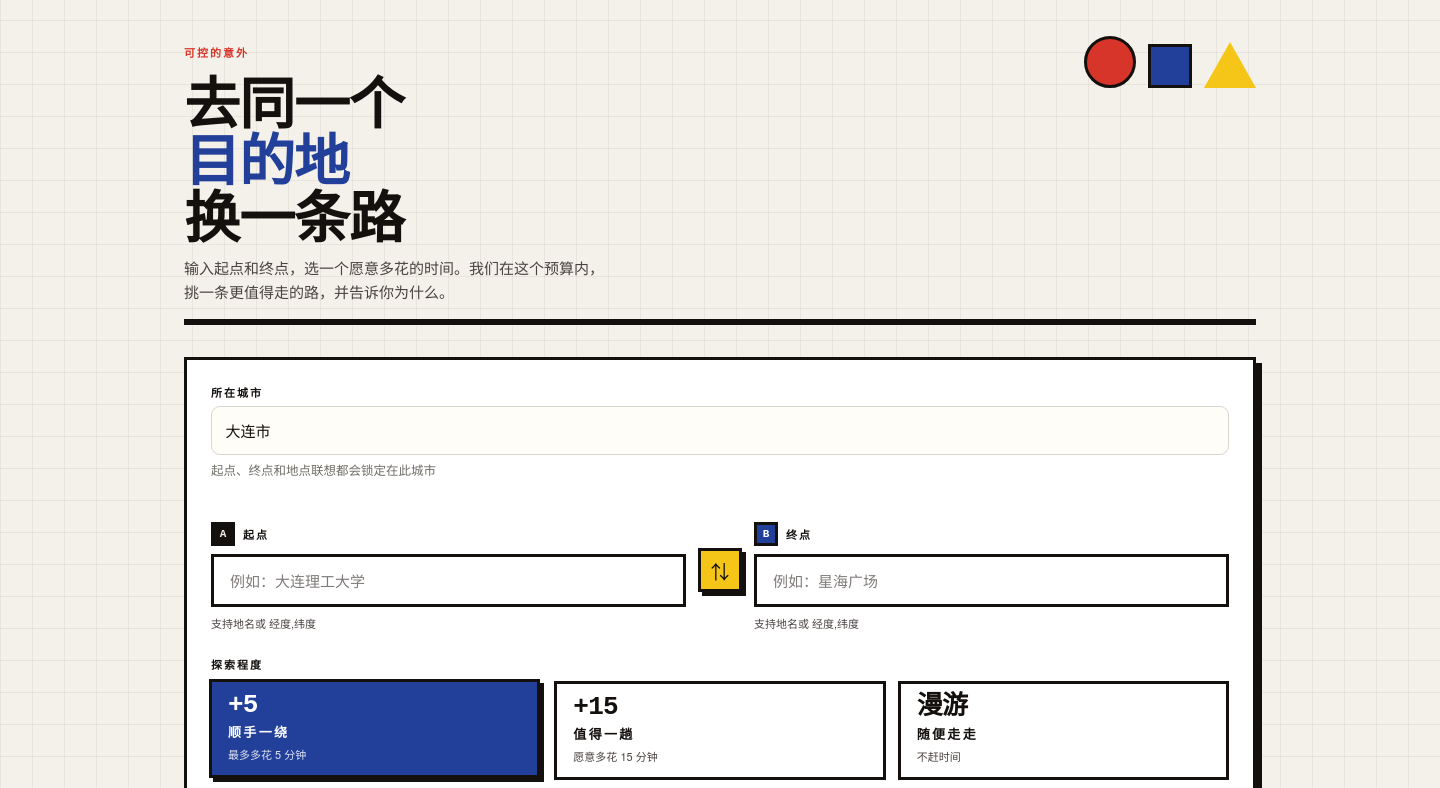
Scenario: HomeView › warns when the backend returns no route
The width and height of the screenshot is (1440, 788).
Type "起点" into the dropdown labelled "A 起点" at [448, 581], box x1=211 y1=554 x2=686 y2=607
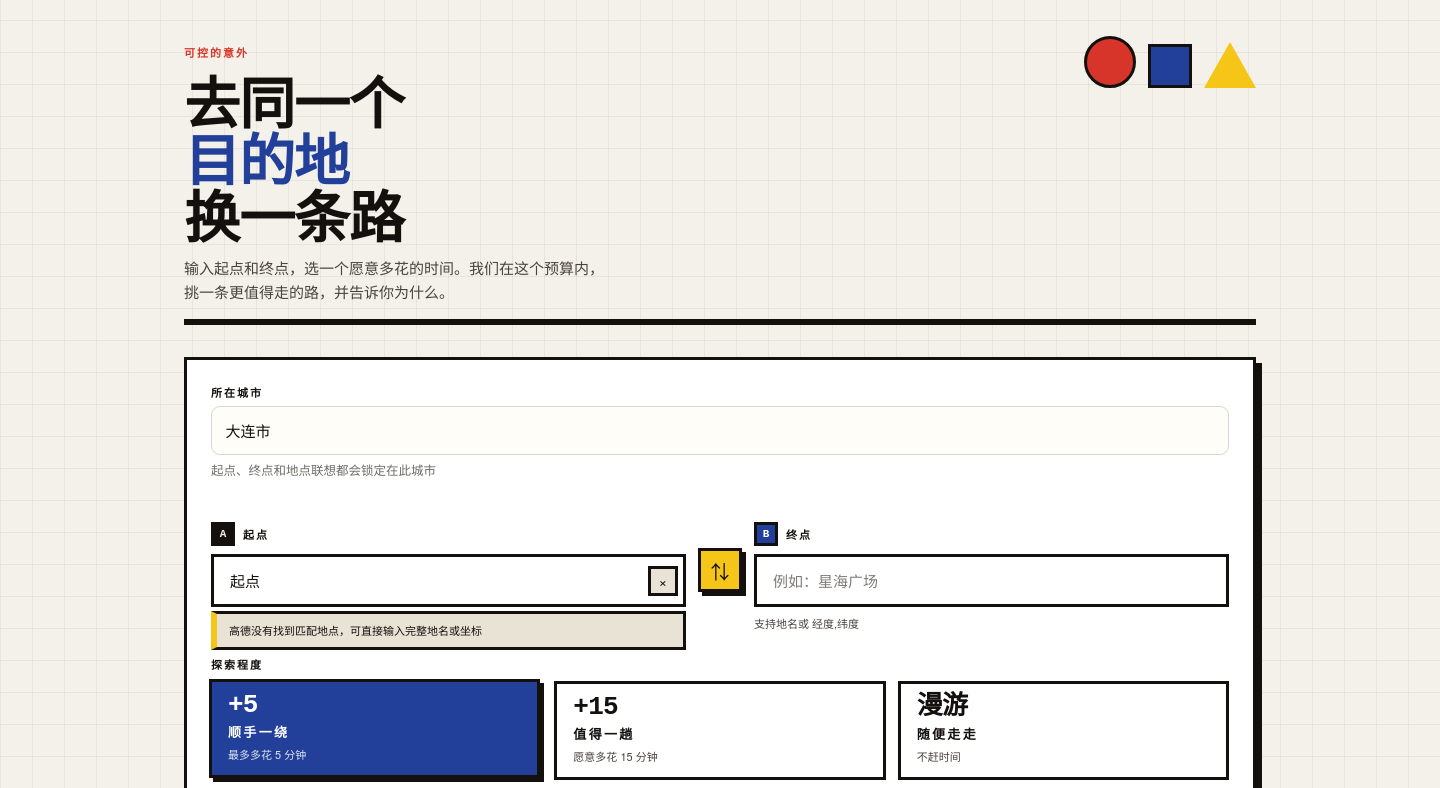
Type "终点" into the dropdown labelled "B 终点" at [992, 581], box x1=754 y1=554 x2=1229 y2=607
(page scrolled)
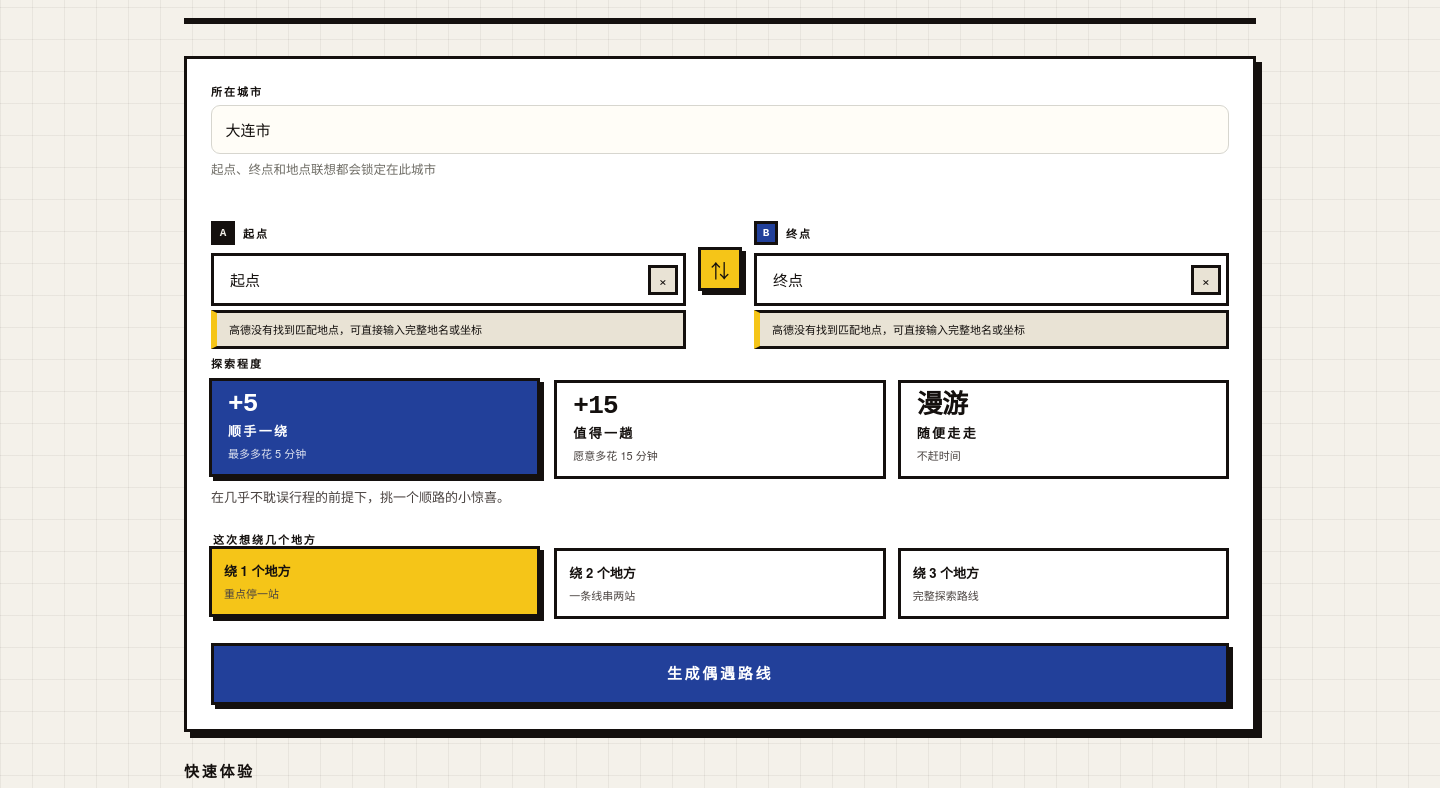
Submit the form
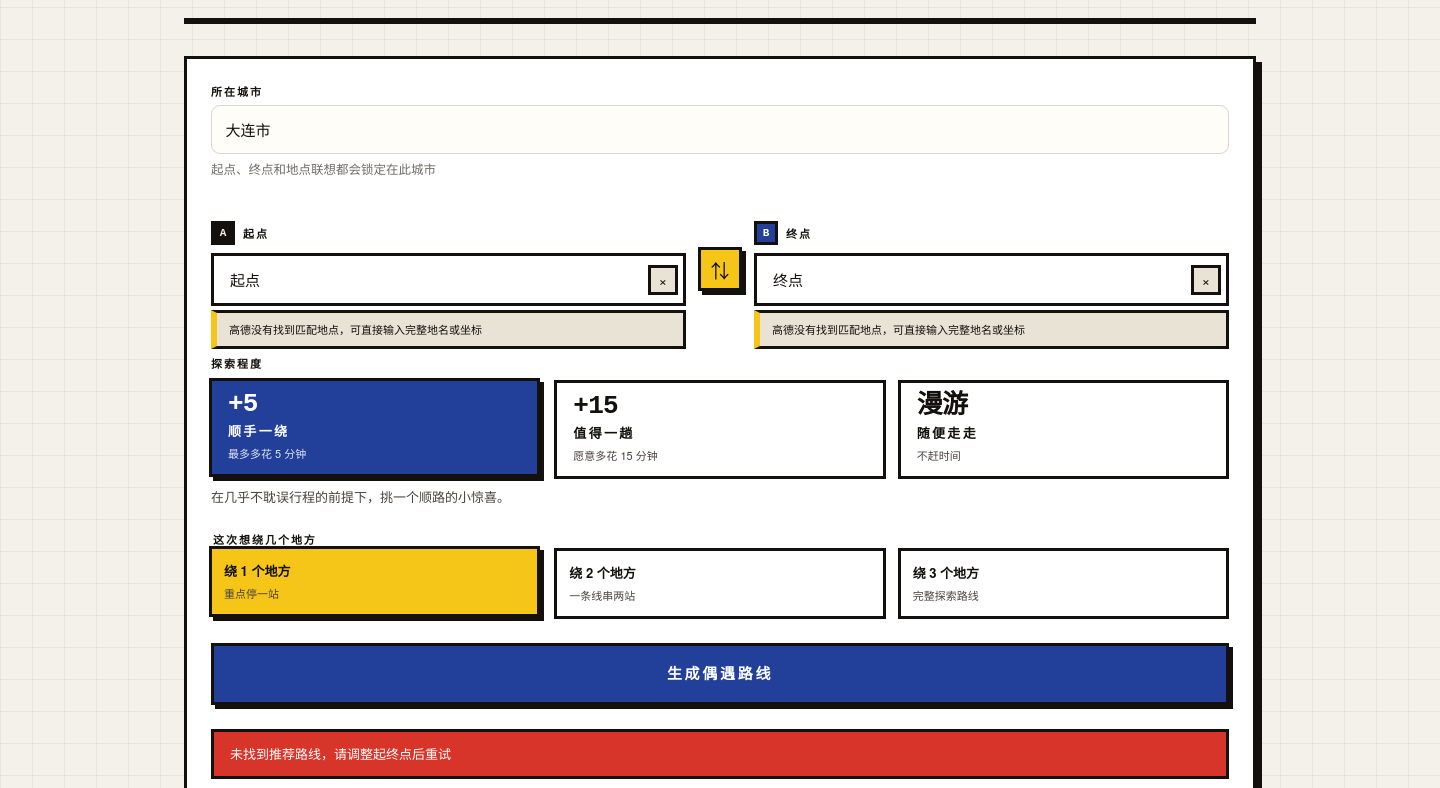
Result: the message "未找到推荐路线，请调整起终点后重试" is shown at x1=211 y1=729 x2=1229 y2=779
